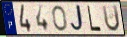4: (19, 4, 33, 34), (36, 5, 51, 33)
J: (70, 4, 86, 33)
L: (86, 4, 102, 32)
O: (51, 5, 68, 32)
U: (101, 5, 121, 34)
